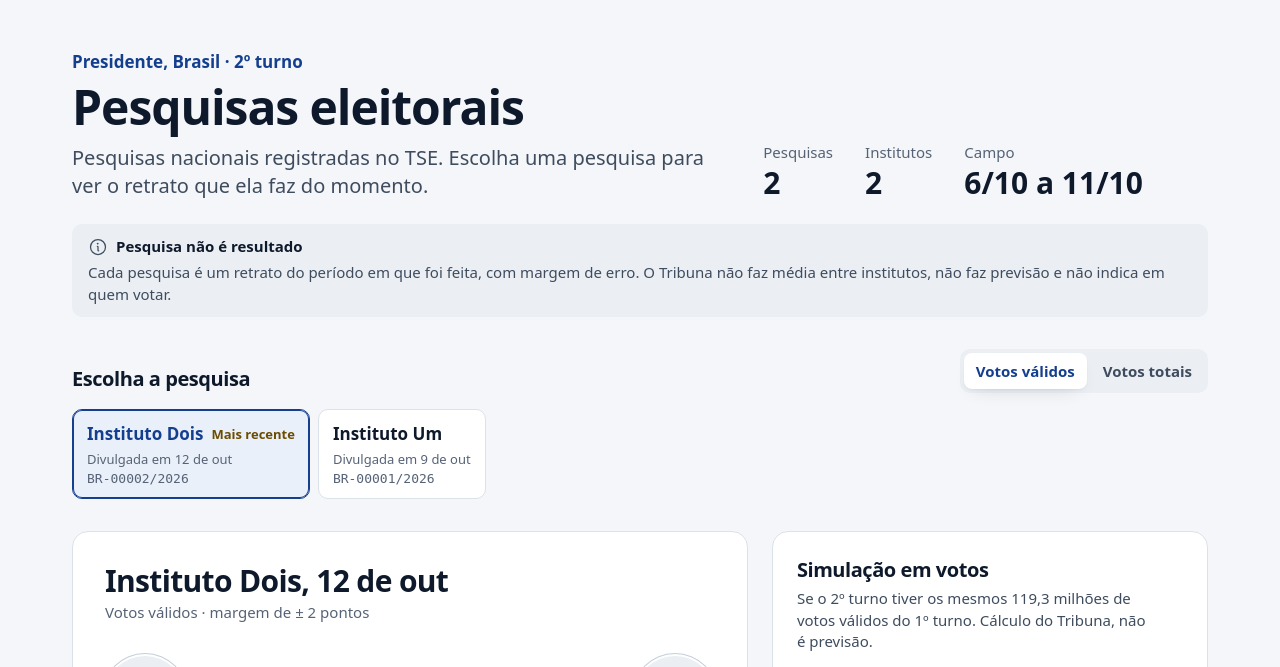
PollsPage › ao escolher outra pesquisa, o painel e a simulação mudam e o cálculo do Tribuna é marcado
Expected: the heading "Instituto Dois, 12 de out" is shown, [105, 564, 448, 598]
Click the radio button labelled "Instituto Um Divulgada em 9 de out BR-00001/2026": (402, 454) [318, 409, 486, 499]
(page scrolled)
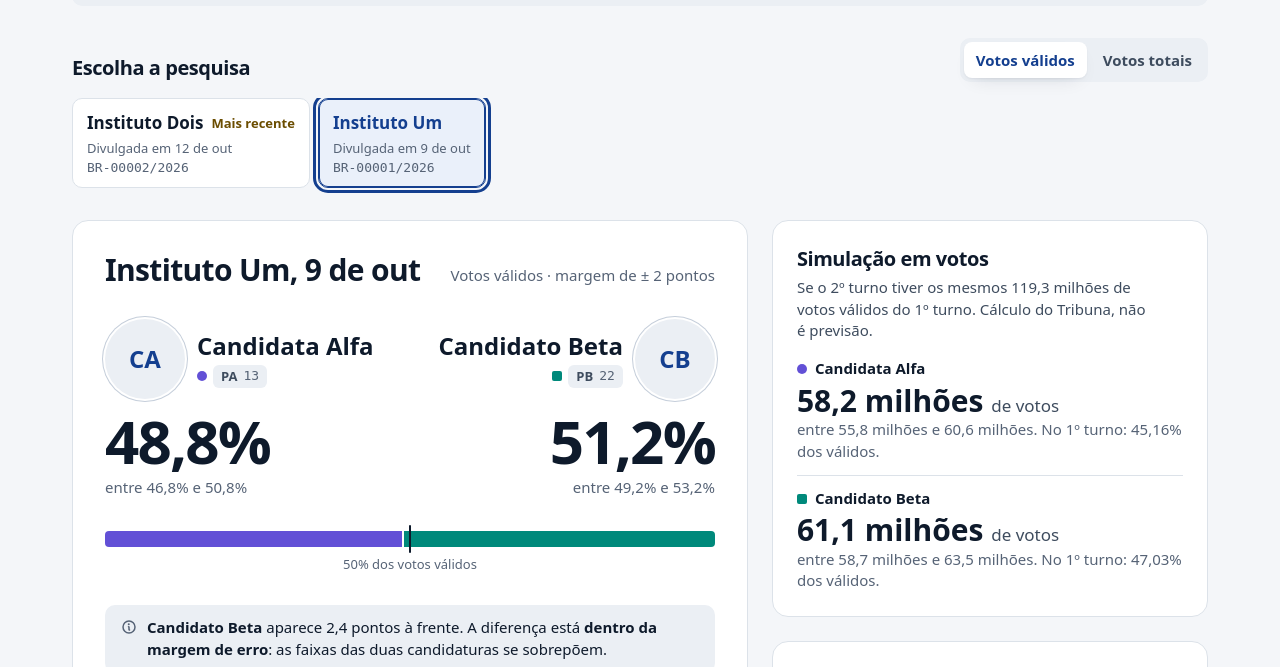
Result: the heading "Instituto Um, 9 de out" is shown at [105, 253, 420, 288]
Result: the text "dentro da margem de erro" is shown at [147, 617, 657, 659]
Result: the text "58,2 milhões" is shown at [797, 380, 983, 421]
